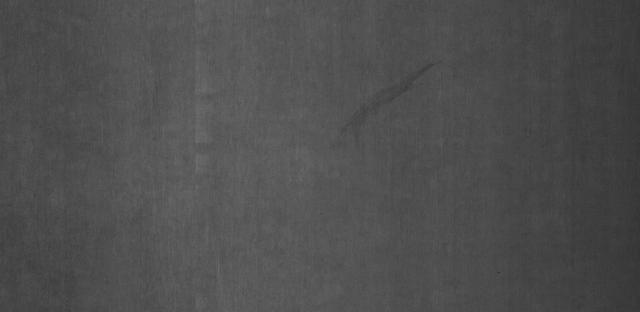water_spot: (342, 55, 435, 147)
